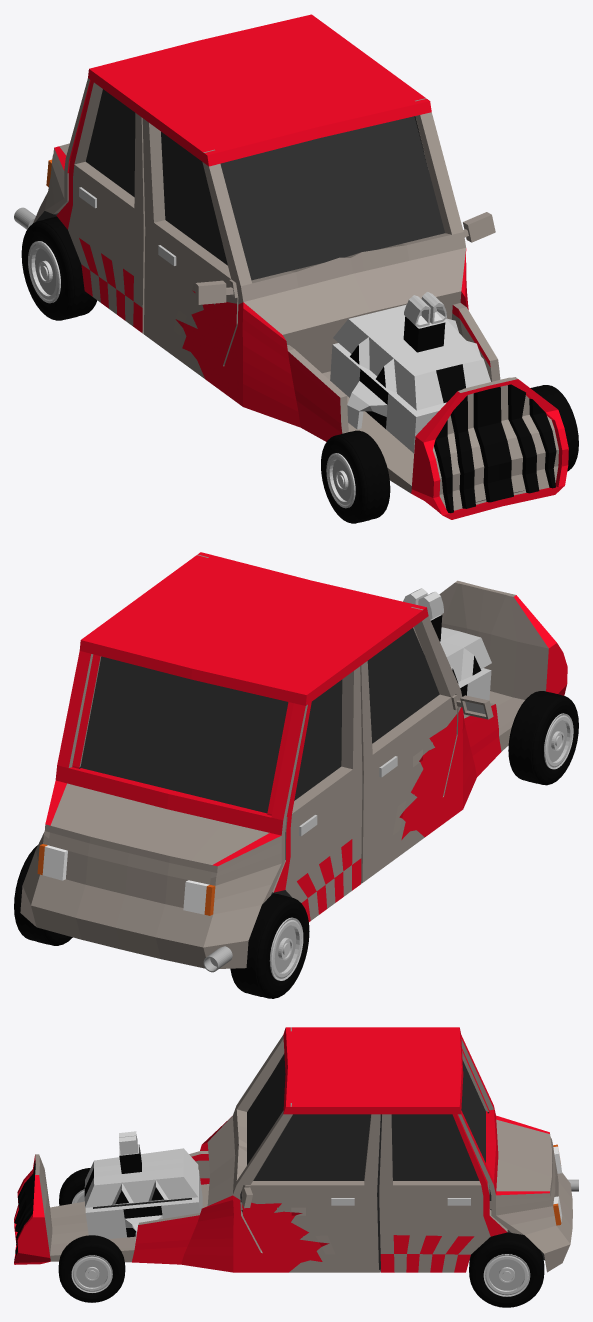
The picture shows the model from 3 angles, top to bottom: view 1: azimuth 30°, elevation 25°; view 2: azimuth 150°, elevation 25°; view 3: azimuth 270°, elevation 25°; orthographic projection. The views are drawn at different scales.
Parts seen in each view (by area): view 1: BODY33A, WHEEL.004, WHEEL.001, WHEEL.003; view 2: BODY33A, WHEEL.004, WHEEL.001, WHEEL.002; view 3: BODY33A, WHEEL.002, WHEEL.003, WHEEL.001.
Part boxes in pixels (x1,y1,x2,y2): BODY33A: (33, 14, 568, 519); WHEEL.004: (21, 216, 97, 320); WHEEL.001: (321, 430, 390, 523); WHEEL.003: (530, 385, 578, 471); BODY33A: (20, 552, 567, 968); WHEEL.004: (230, 893, 309, 998); WHEEL.001: (508, 691, 578, 785); WHEEL.002: (14, 845, 72, 945); BODY33A: (14, 1027, 572, 1272); WHEEL.002: (469, 1232, 544, 1307); WHEEL.003: (58, 1235, 125, 1302); WHEEL.001: (59, 1168, 90, 1205).
Bounding box in the file's own units: 113 × 98.07 × 253.
